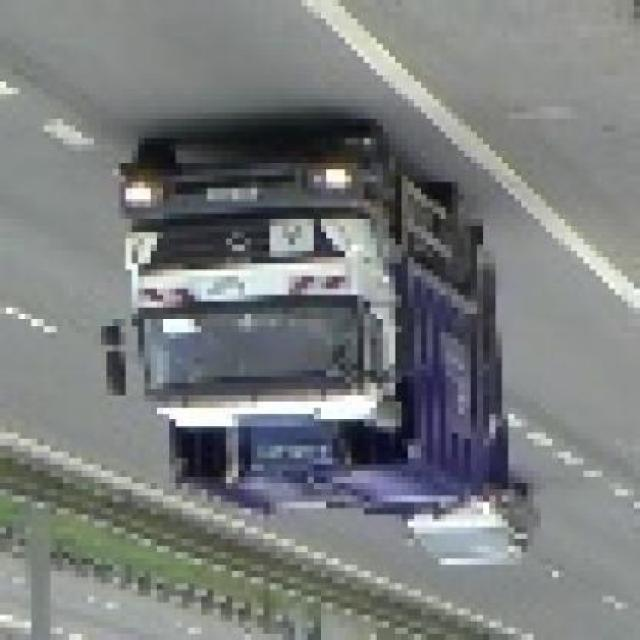truck: (102, 145, 509, 534)
